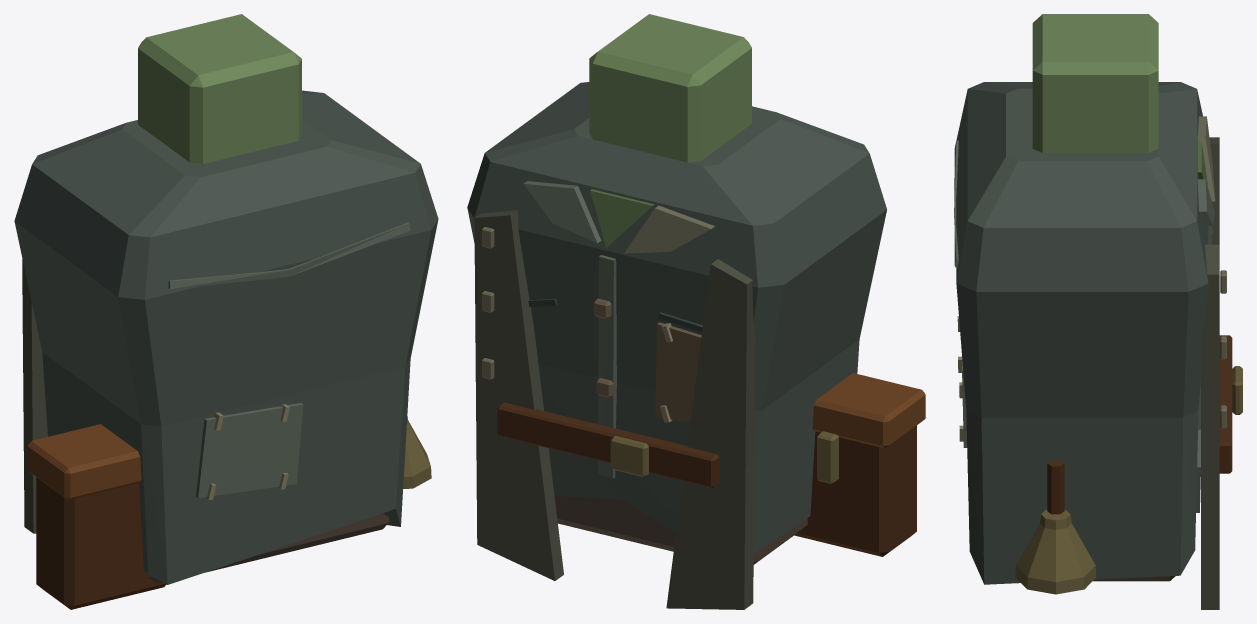
Rendered from Body.glb.
The picture shows the model from 3 angles, left to right: view 1: azimuth 30°, elevation 25°; view 2: azimuth 150°, elevation 25°; view 3: azimuth 270°, elevation 25°; orthographic projection. The views are drawn at different scales.
Visible parts, largest first — view 1: Sculpture; view 2: Sculpture; view 3: Sculpture.
Boxes of the visible parts, bbox=[...] form: Sculpture: bbox=[14, 14, 438, 609]; Sculpture: bbox=[467, 14, 925, 609]; Sculpture: bbox=[954, 14, 1242, 609].
Bounding box in the file's own units: 0.7025 × 0.87 × 0.4355.
